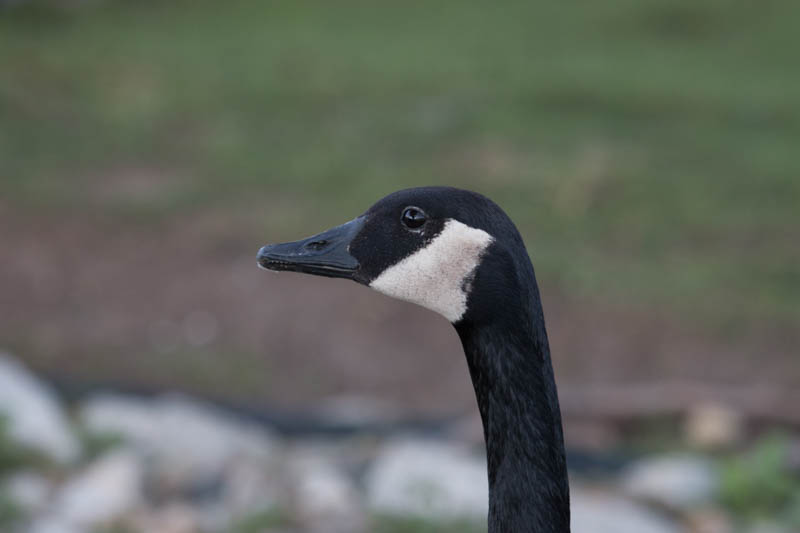goose-head: (257, 186, 544, 322)
